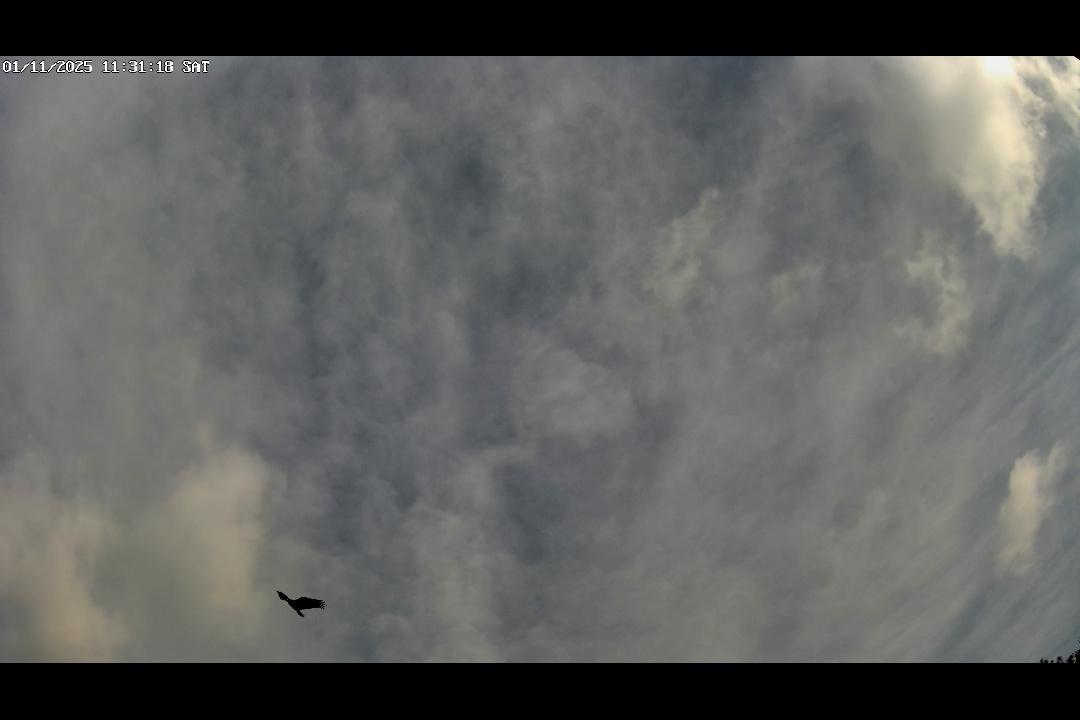WildLife: (259, 583, 347, 624)
